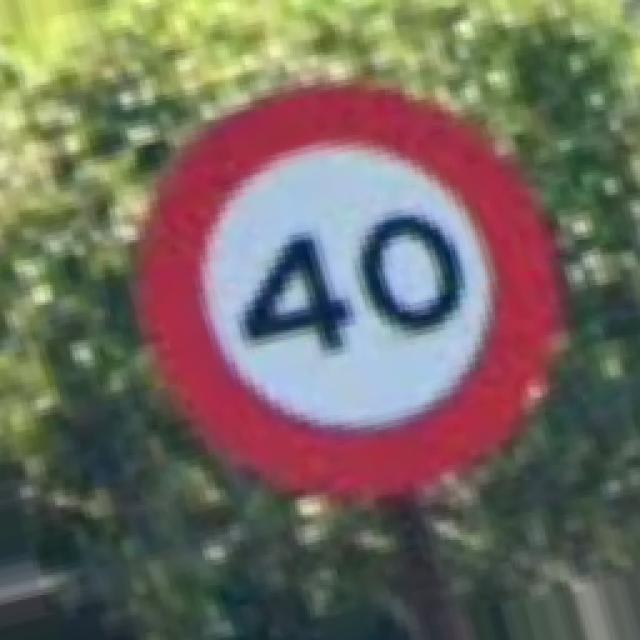Speed Limit -40-: (142, 85, 555, 492)
